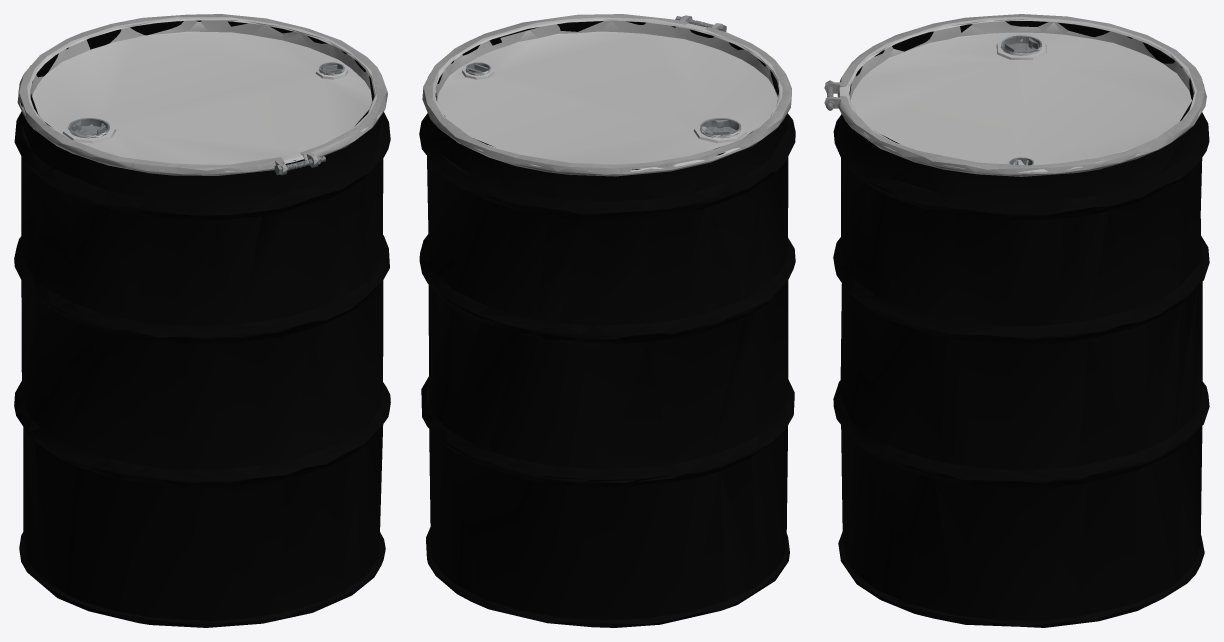
Rendered from steeldrum_a01.glb.
The picture shows the model from 3 angles, left to right: view 1: azimuth 30°, elevation 25°; view 2: azimuth 150°, elevation 25°; view 3: azimuth 270°, elevation 25°; orthographic projection.
Visible parts, largest first — view 1: root; view 2: root; view 3: root.
Part boxes in pixels (box(x1,y1,x2,y2)): root: box(14, 14, 390, 627); root: box(419, 14, 795, 627); root: box(824, 14, 1209, 627).
Size of the model in its own units: 0.6409 by 0.8681 by 0.6561.
Materials: 4 (2 with a texture image).
